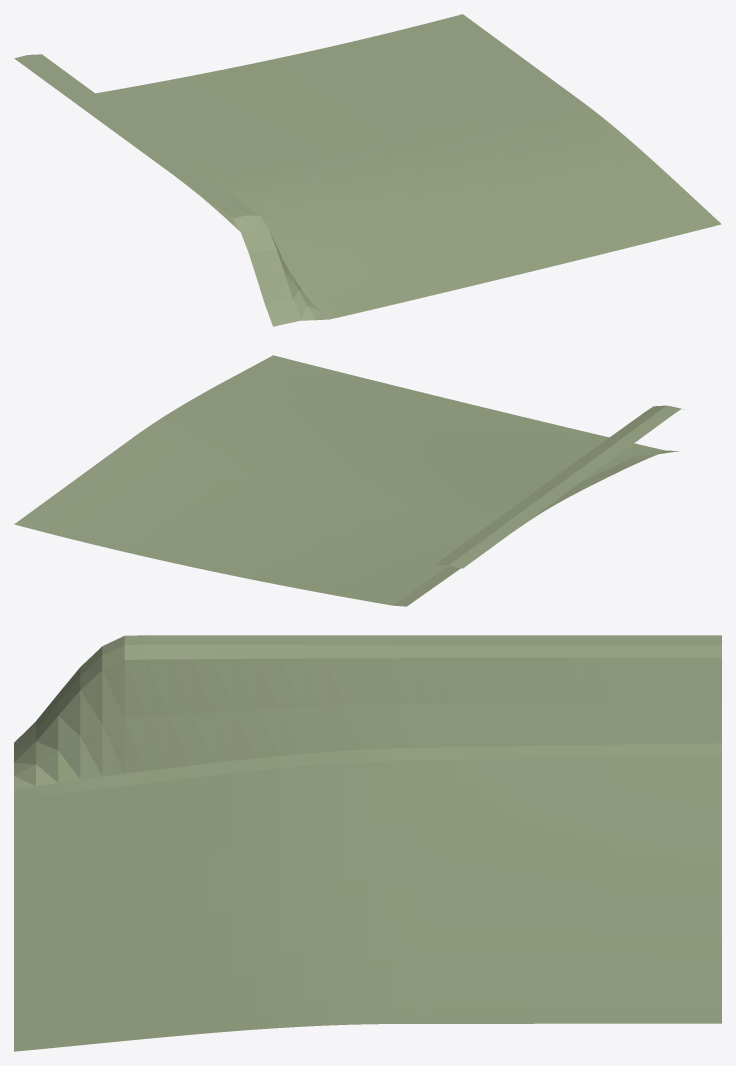
The model's file is valley-8-6.glb.
3 renders of one model, top to bottom at view 1: azimuth 30°, elevation 25°; view 2: azimuth 150°, elevation 25°; view 3: azimuth 270°, elevation 25°, orthographic. The views are drawn at different scales.
Visible parts, largest first — view 1: valley-8-6; view 2: valley-8-6; view 3: valley-8-6.
Part boxes in pixels (x1,y1,x2,y2): valley-8-6: (14,14,721,326); valley-8-6: (14,355,684,606); valley-8-6: (14,635,721,1051).
Bounding box in the file's own units: 256 × 47.18 × 256.
